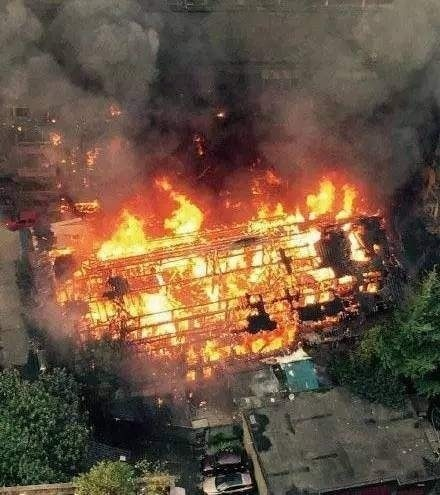fire: (52, 166, 379, 386)
